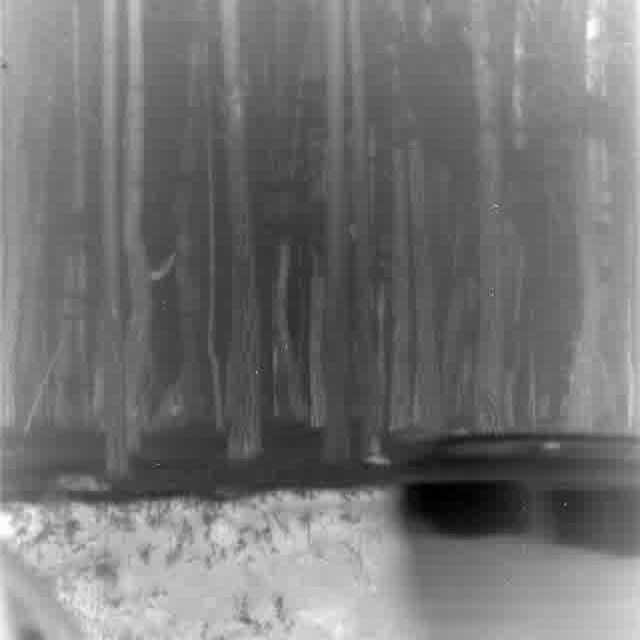Car: (386, 428, 640, 640)
